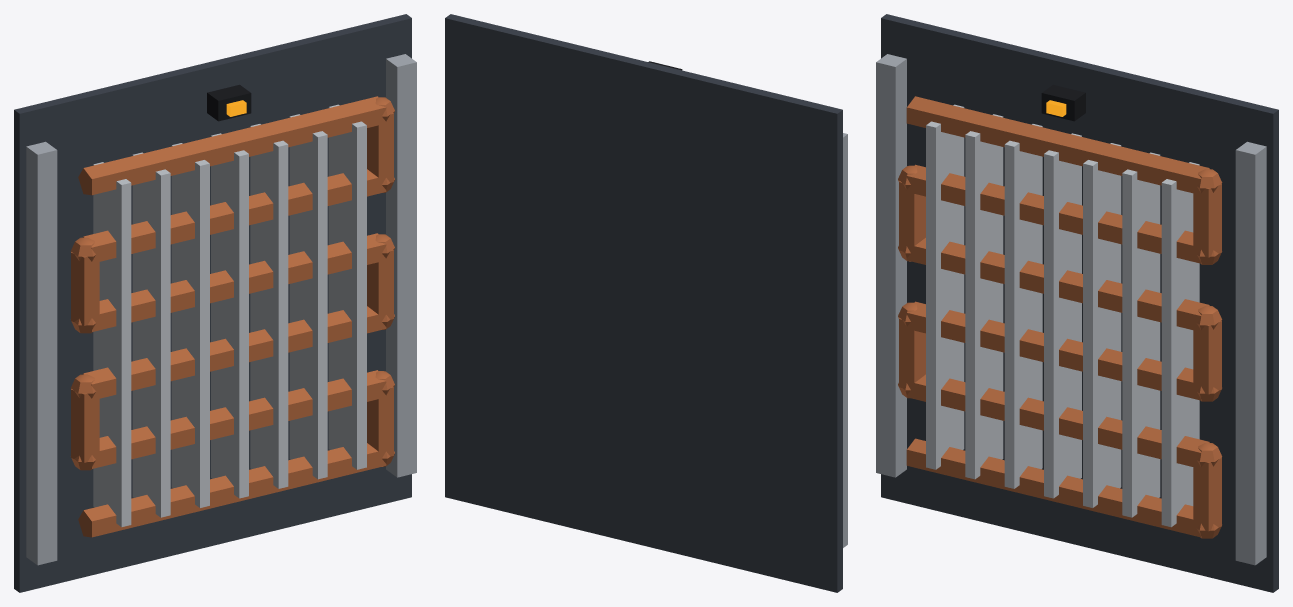
File: tank_radiator_coil.glb
3 renders of one model, left to right at view 1: azimuth 30°, elevation 25°; view 2: azimuth 150°, elevation 25°; view 3: azimuth 330°, elevation 25°, orthographic.
Parts seen in each view (by area): view 1: tank_radiator_coil; view 2: tank_radiator_coil; view 3: tank_radiator_coil.
Part boxes in pixels (x1=…): tank_radiator_coil: x1=14, y1=14, x2=416, y2=592; tank_radiator_coil: x1=445, y1=14, x2=847, y2=592; tank_radiator_coil: x1=876, y1=14, x2=1278, y2=592.
Bounding box in the file's own units: 1.2 × 1.4 × 0.18.
